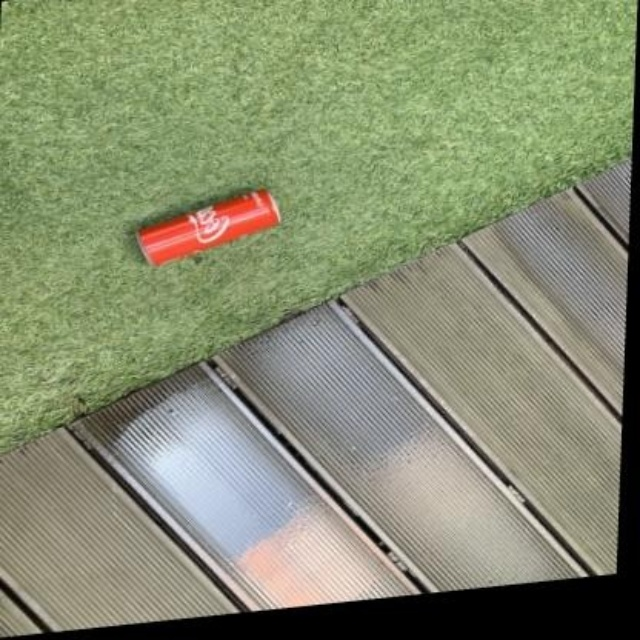trash: (137, 189, 280, 265)
